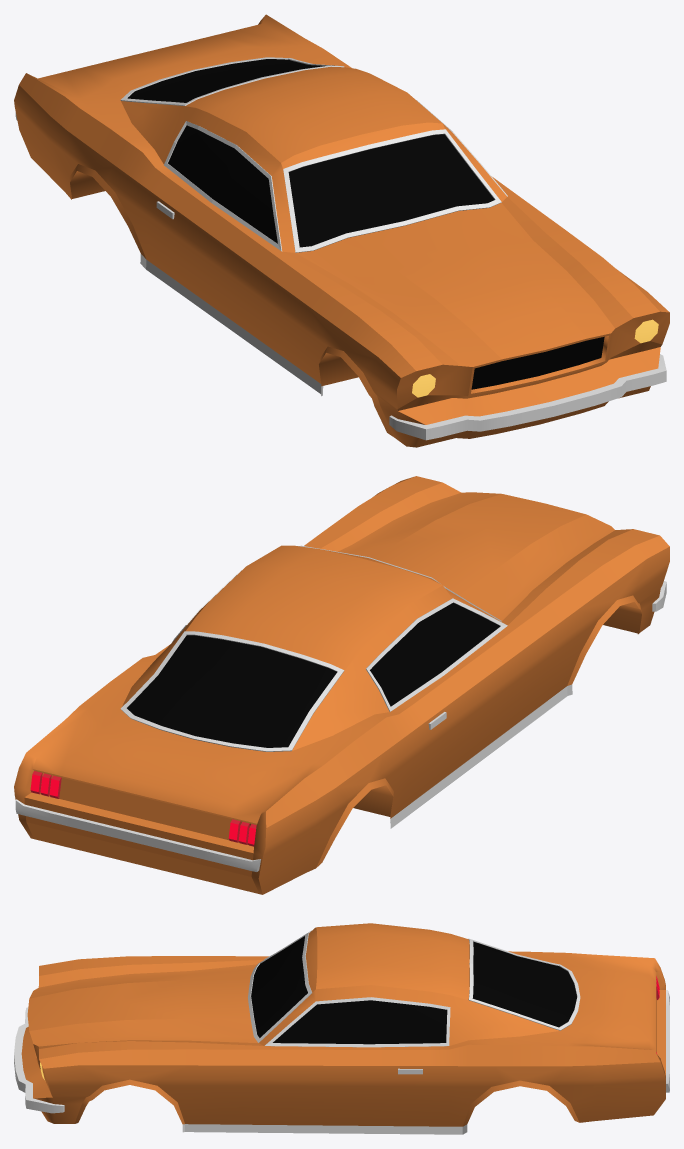
File: mustang-frame.glb
3 views of the same model, one above another, from view 1: azimuth 30°, elevation 25°; view 2: azimuth 150°, elevation 25°; view 3: azimuth 270°, elevation 25° (orthographic). The views are drawn at different scales.
Visible parts, largest first — view 1: Frame, HoodRail, WindShield, SideWindow, BackShield; view 2: Frame, BackRail, BackShield, SideWindow, TailLights; view 3: Frame, SideWindow, HoodRail, BackShield, WindShield, BackRail.
Boxes of the visible parts, x1,y1,x2,y2 form: Frame: (14,14,669,447); HoodRail: (389,354,666,440); WindShield: (283,129,501,252); SideWindow: (164,100,507,251); BackShield: (120,57,344,105); Frame: (14,476,669,894); BackRail: (15,799,260,871); BackShield: (120,631,344,751); SideWindow: (172,573,507,711); TailLights: (30,771,256,846); Frame: (21,923,665,1134); SideWindow: (264,955,450,1047); HoodRail: (14,1007,64,1113); BackShield: (468,938,580,1030); WindShield: (248,930,311,1042); BackRail: (666,990,669,1092).
Size of the model in its own units: 1.32 by 0.8058 by 3.41.
